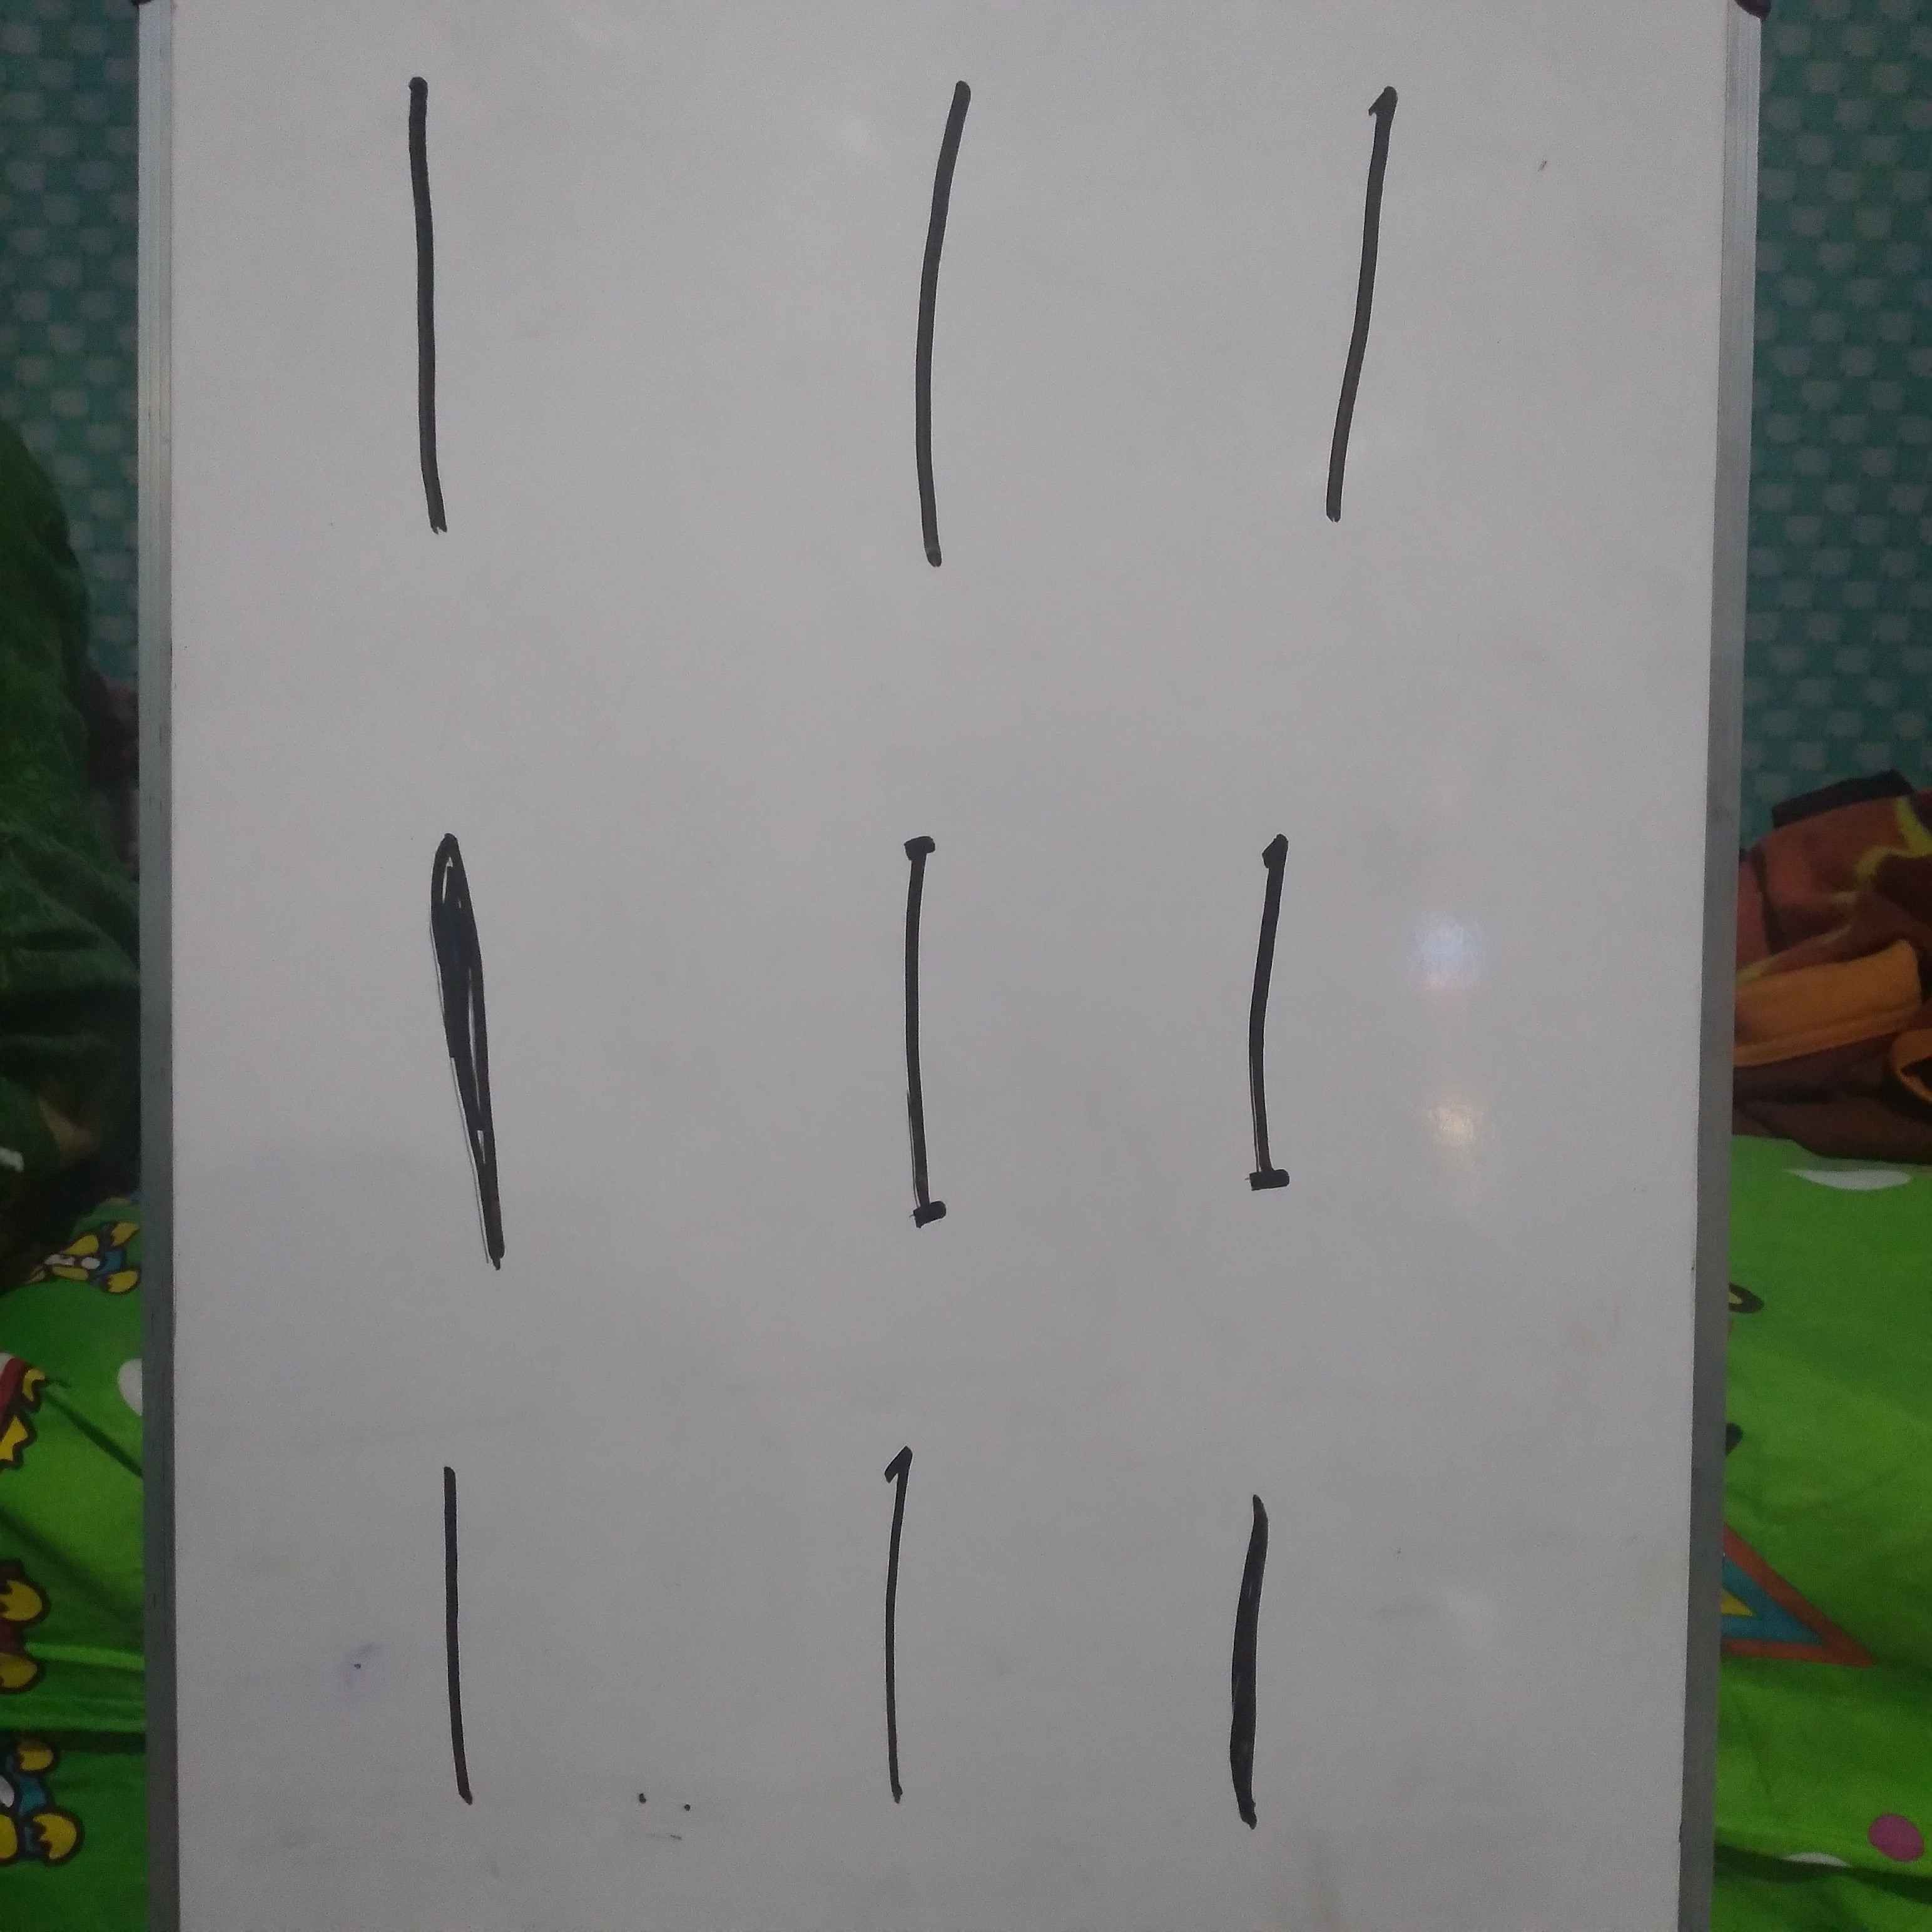num1: (1223, 740, 1324, 1238), (1308, 67, 1409, 566), (412, 810, 514, 1309), (881, 777, 982, 1276), (1198, 1390, 1299, 1889), (412, 1398, 514, 1896), (841, 1393, 943, 1892), (903, 76, 980, 581), (385, 51, 462, 556)
